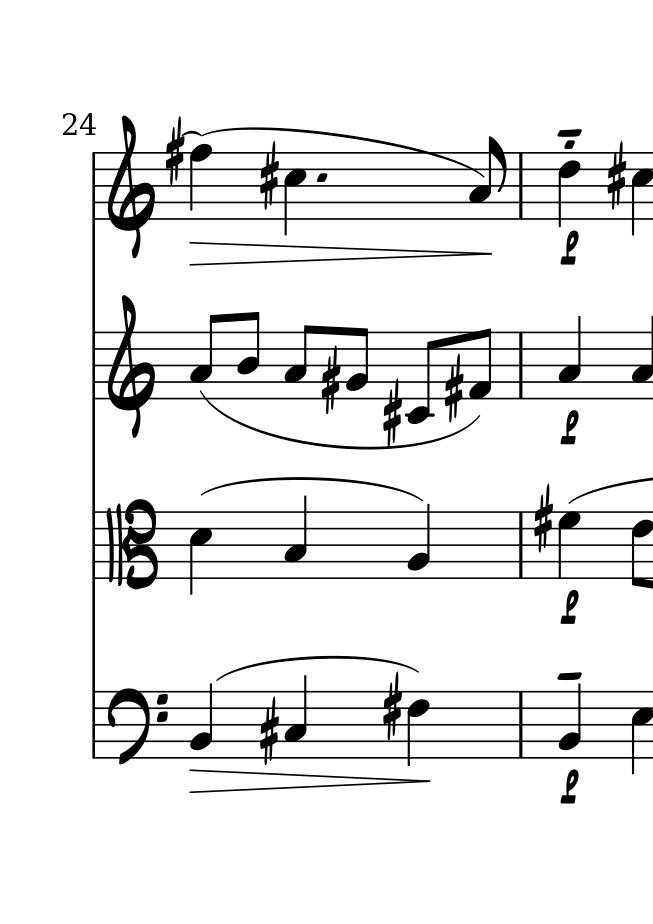2: (61, 111, 78, 137)
4: (79, 111, 96, 138)
4_2: (407, 503, 433, 581), (558, 681, 583, 761)
4_3: (558, 316, 583, 400), (283, 496, 308, 580), (283, 677, 309, 756)
4_5: (187, 511, 215, 595), (282, 152, 309, 237), (630, 148, 651, 240), (629, 691, 652, 775)
4_6: (557, 151, 581, 230), (407, 690, 430, 766)
4_7: (557, 509, 583, 580)
8_-2: (405, 330, 438, 423)
8_1: (469, 325, 494, 402)
8_2: (188, 683, 215, 760), (345, 326, 370, 400)
8_3: (470, 134, 506, 220), (188, 313, 221, 399), (283, 324, 315, 401)
8_4: (236, 309, 261, 401)
8_6: (630, 510, 653, 590)
8_8: (189, 143, 212, 223)
Cclef: (105, 497, 157, 589)
Diminuendo_hairpin: (189, 768, 432, 794)
Fclef: (109, 687, 169, 768)
Gclef: (105, 114, 156, 258), (106, 294, 157, 438)
Sharp: (257, 696, 281, 767), (258, 142, 281, 212), (381, 677, 403, 742), (164, 121, 185, 187), (443, 357, 464, 423), (532, 490, 554, 553), (606, 144, 627, 209), (382, 382, 403, 447), (320, 353, 340, 415)
Single_barline: (86, 691, 102, 757), (87, 332, 102, 398), (86, 512, 101, 577), (514, 513, 529, 576), (514, 692, 528, 756), (514, 334, 528, 397), (514, 155, 528, 216), (87, 154, 100, 218)
Slur: (197, 389, 480, 449), (201, 126, 487, 178), (200, 476, 429, 504), (216, 657, 421, 679), (181, 131, 201, 138)
dot: (315, 170, 329, 185)
p: (558, 589, 582, 626), (559, 231, 582, 268), (559, 411, 582, 446), (559, 770, 581, 804)
